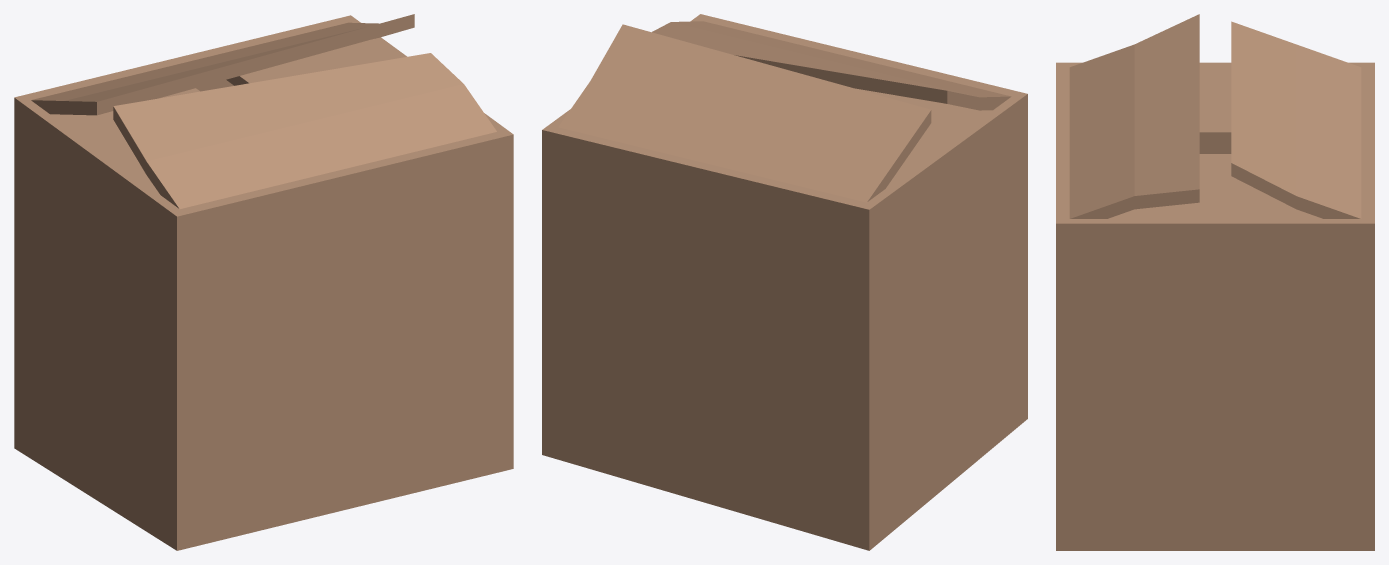
The model's file is Cardboard Box 5.fbx.
3 views of the same model, side by side, from view 1: azimuth 30°, elevation 25°; view 2: azimuth 150°, elevation 25°; view 3: azimuth 270°, elevation 25° (orthographic). The views are drawn at different scales.
Parts seen in each view (by area): view 1: Cardboard_Box_2; view 2: Cardboard_Box_2; view 3: Cardboard_Box_2.
Part boxes in pixels (box(x1,y1,x2,y2)): Cardboard_Box_2: box(14, 14, 513, 550); Cardboard_Box_2: box(542, 14, 1027, 550); Cardboard_Box_2: box(1056, 14, 1374, 550).
Bounding box in the file's own units: 18.36 × 21.27 × 15.38.
